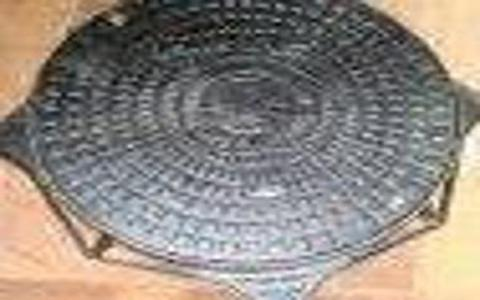proper manhole: (34, 1, 458, 266)
